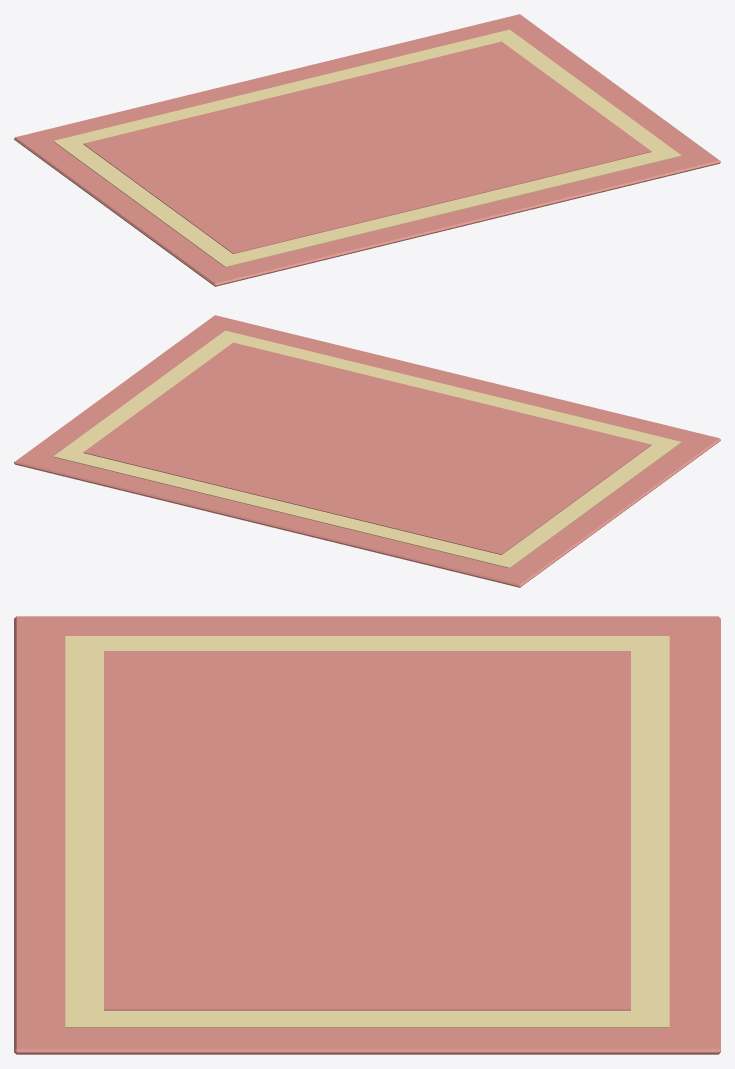
The model's file is rug.glb.
3 renders of one model, top to bottom at view 1: azimuth 30°, elevation 25°; view 2: azimuth 150°, elevation 25°; view 3: azimuth 270°, elevation 25°, orthographic. The views are drawn at different scales.
Visible parts, largest first — view 1: rug_cloth_r, rug_cloth_y; view 2: rug_cloth_r, rug_cloth_y; view 3: rug_cloth_r, rug_cloth_y.
Part boxes in pixels (x1,y1,x2,y2): rug_cloth_r: [14, 14, 720, 286]; rug_cloth_y: [53, 29, 681, 267]; rug_cloth_r: [14, 315, 720, 587]; rug_cloth_y: [53, 330, 681, 568]; rug_cloth_r: [14, 616, 720, 1054]; rug_cloth_y: [65, 636, 669, 1027].
Size of the model in its own units: 1.6 by 0.014 by 1.1.
